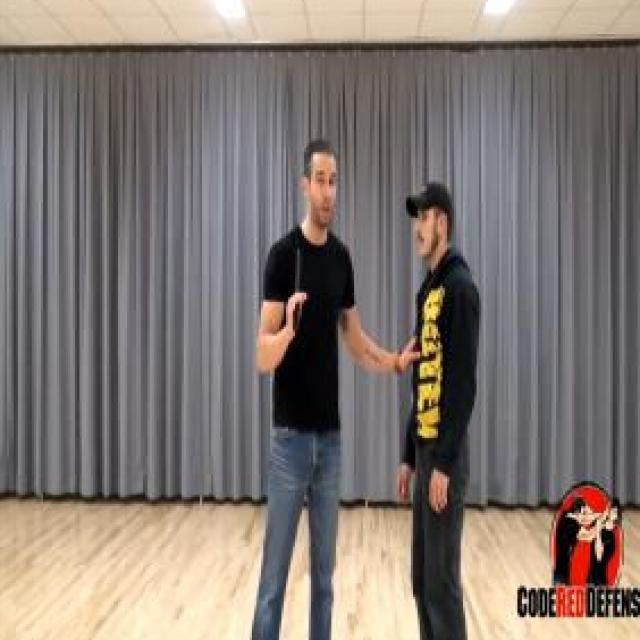knife: (290, 245, 308, 330)
